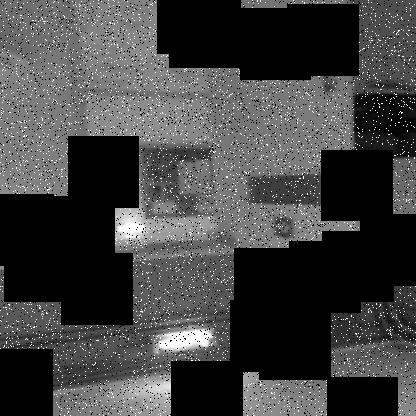Porte: (62, 1, 359, 266)
